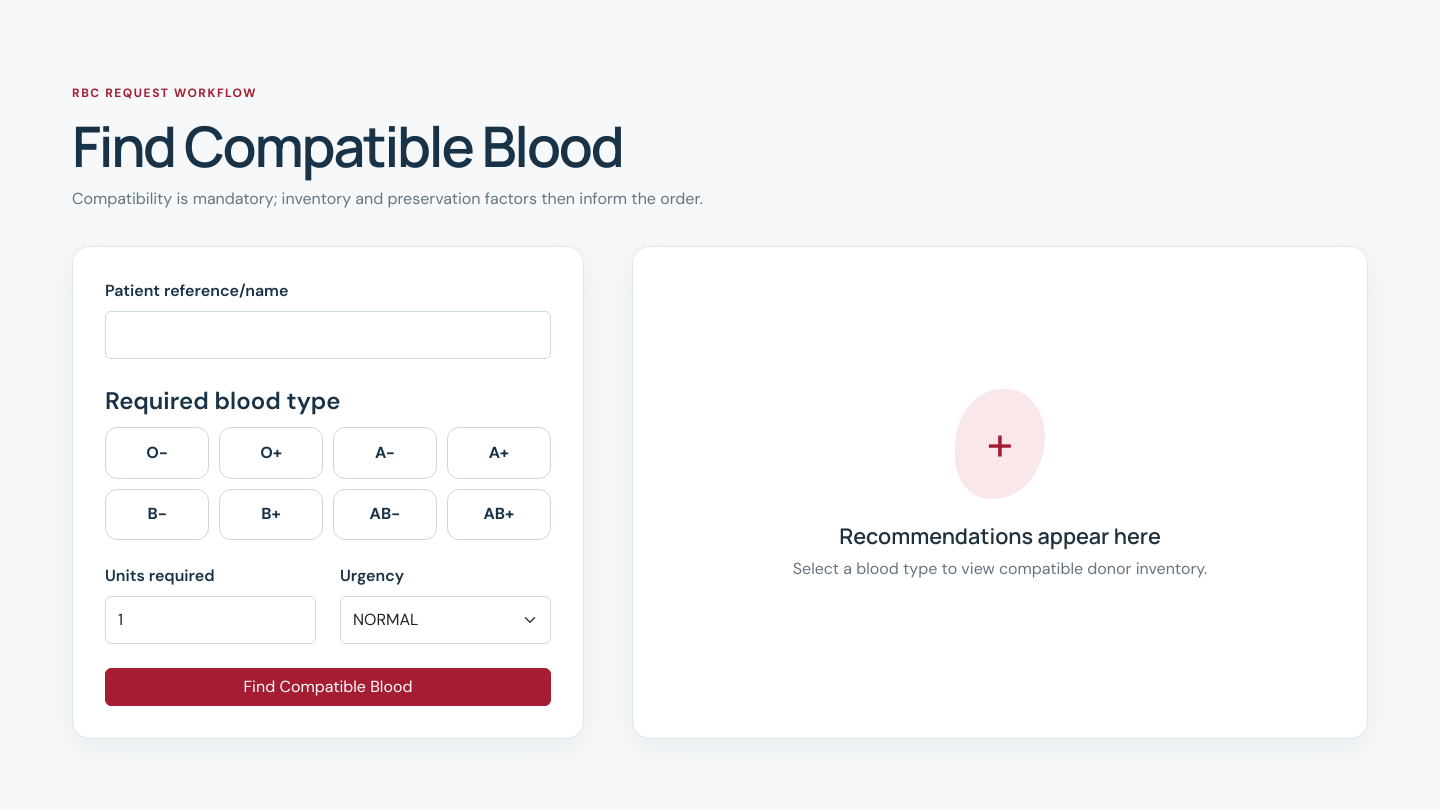
it: request API failure is shown
Type "P" into the field labelled "Patient reference/name" at [328, 335], box [105, 311, 551, 359]
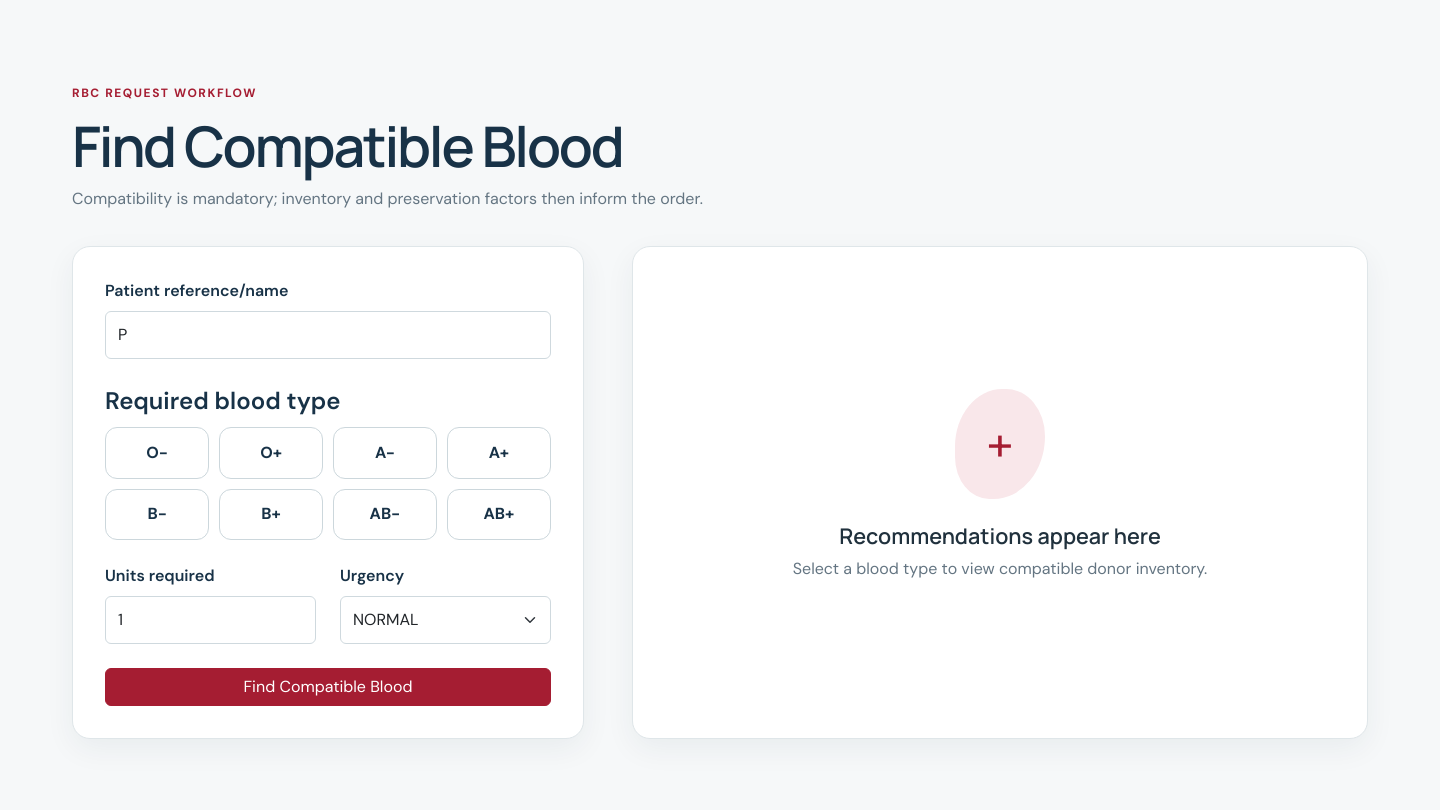
Click the text "O-" at [157, 453], box [146, 442, 168, 463]
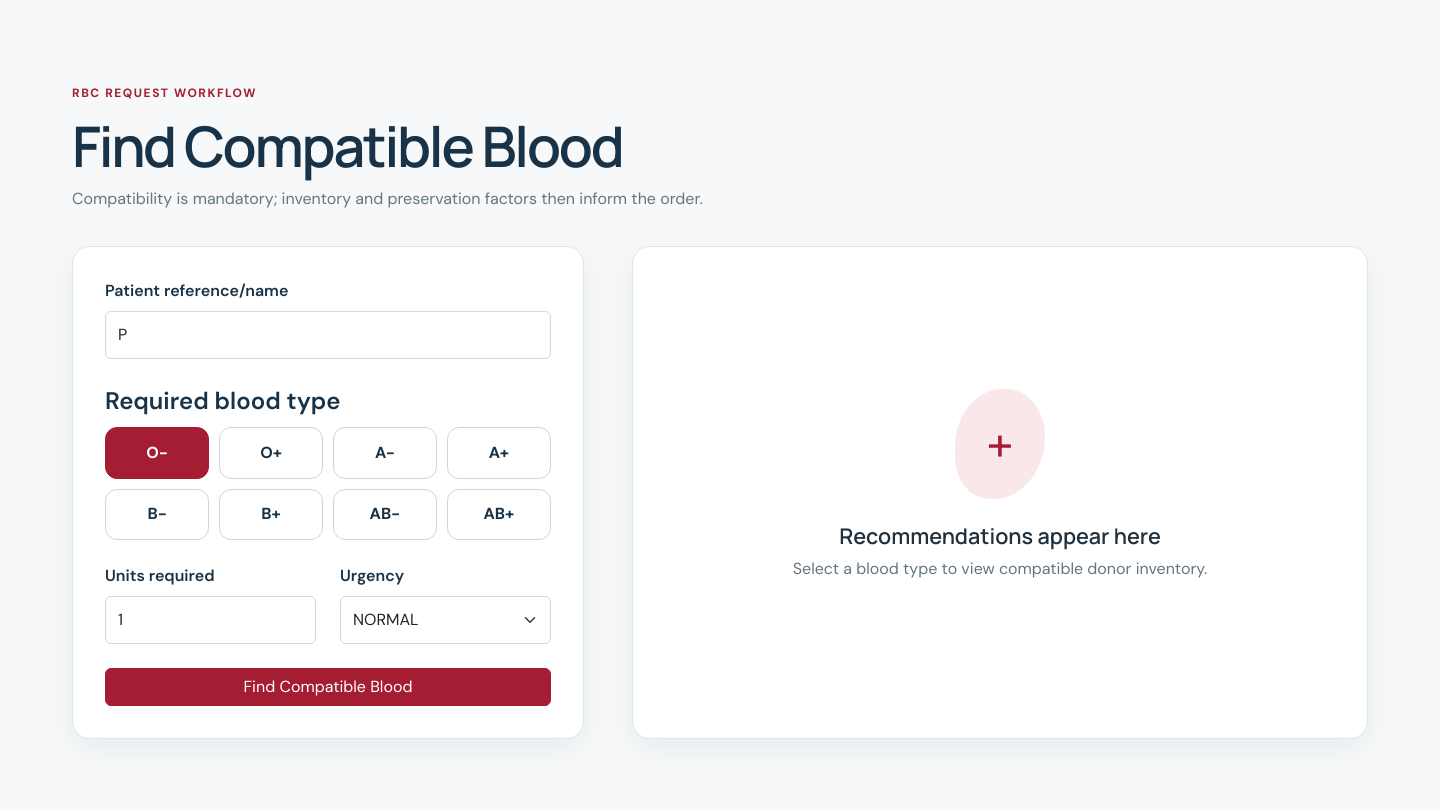
Click the button "Find Compatible Blood" at [328, 687], box [105, 668, 551, 706]
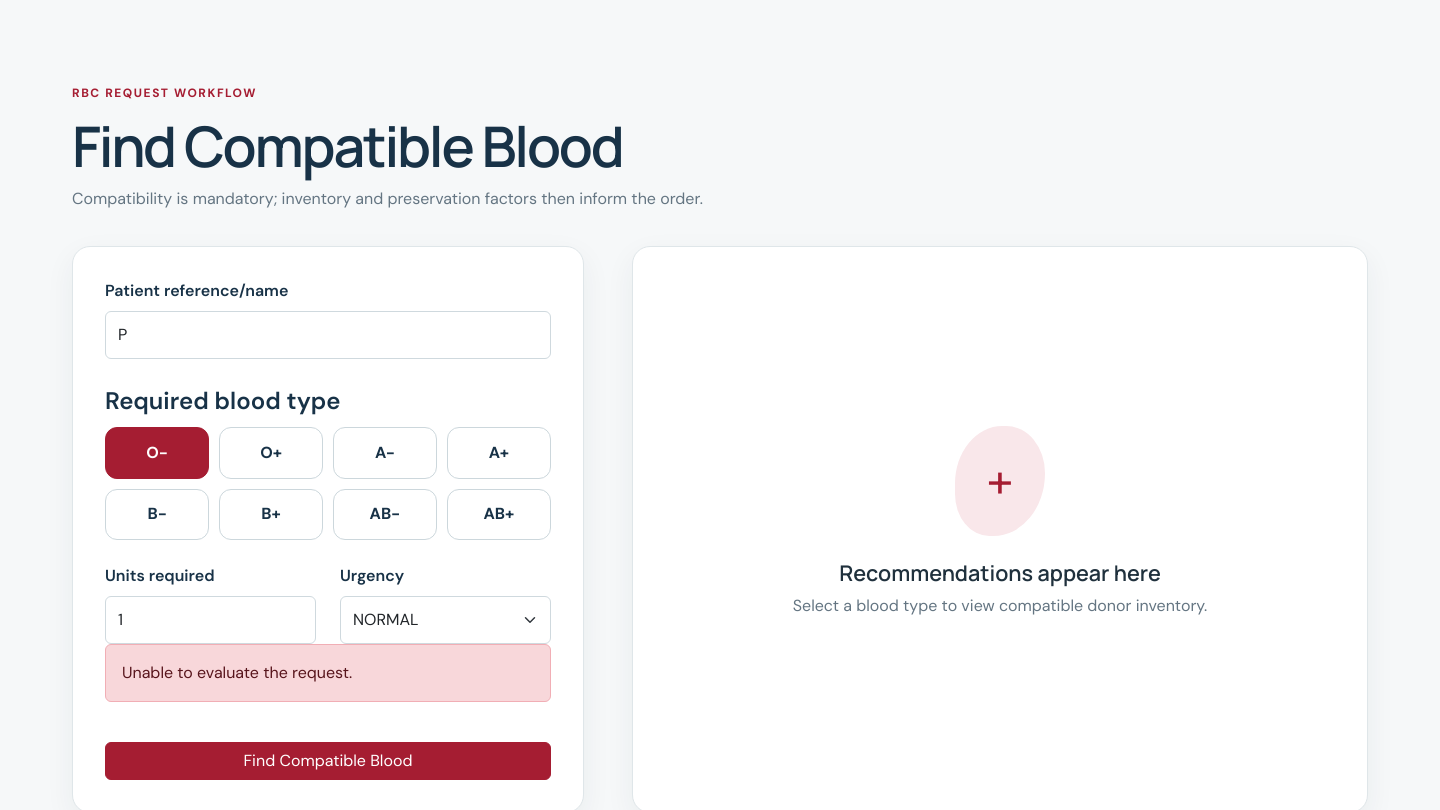
Expected: the message shows "Unable", [122, 662, 352, 683]
